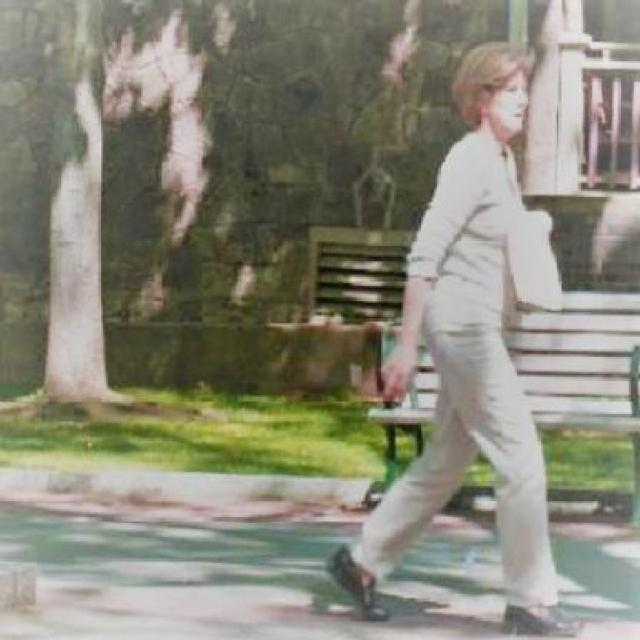Person: (317, 37, 592, 635)
